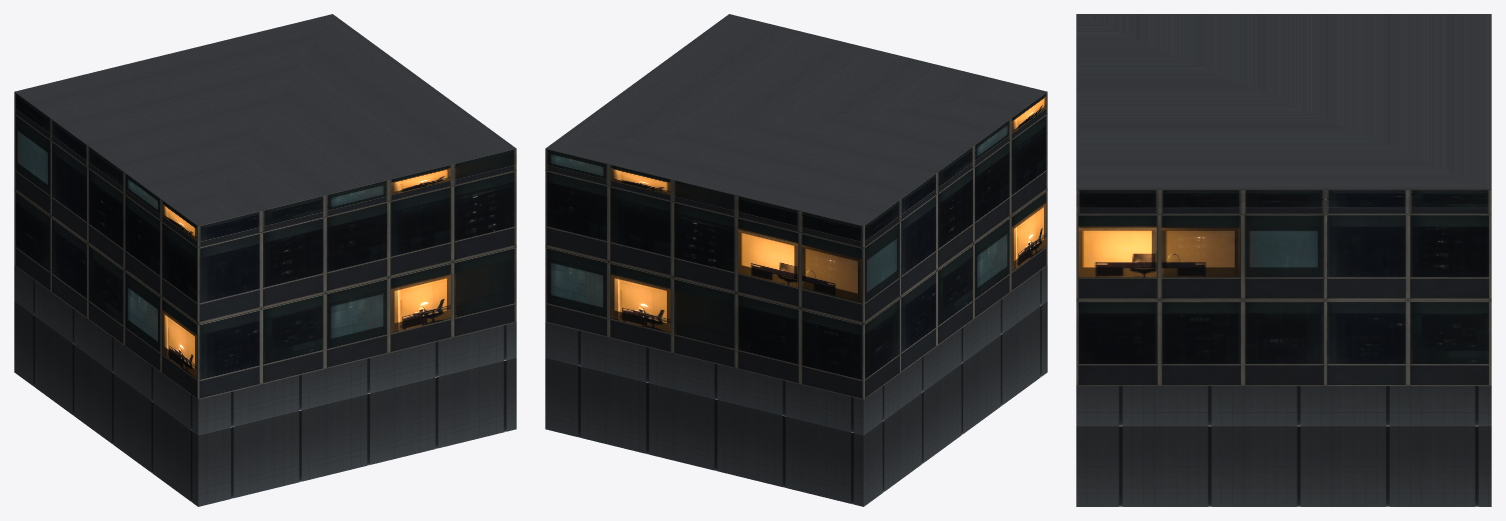
Rendered from library.glb.
The picture shows the model from 3 angles, left to right: view 1: azimuth 30°, elevation 25°; view 2: azimuth 150°, elevation 25°; view 3: azimuth 270°, elevation 25°; orthographic projection. The views are drawn at different scales.
Parts seen in each view (by area): view 1: body, crown, ground; view 2: body, crown, ground; view 3: crown, body, ground.
Boxes of the visible parts, x1=… form: body: x1=14, y1=113, x2=516, y2=399; crown: x1=14, y1=14, x2=516, y2=247; ground: x1=14, y1=265, x2=516, y2=506; body: x1=545, y1=113, x2=1047, y2=399; crown: x1=545, y1=14, x2=1047, y2=247; ground: x1=545, y1=265, x2=1047, y2=506; crown: x1=1076, y1=14, x2=1491, y2=213; body: x1=1076, y1=213, x2=1491, y2=386; ground: x1=1076, y1=386, x2=1491, y2=506.
Size of the model in its own units: 14 by 11.8 by 14.
Materials: 3 (3 with a texture image).
